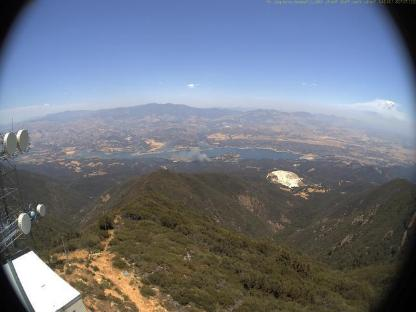smoke: (174, 143, 216, 163)
